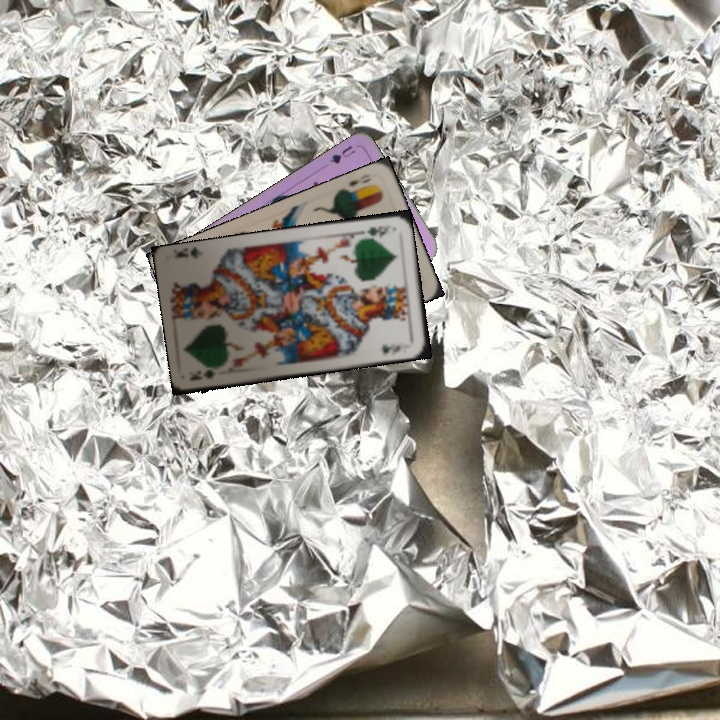EO: (340, 174, 379, 195)
GK: (356, 221, 393, 239), (186, 365, 219, 383)
GU: (326, 141, 358, 166)
